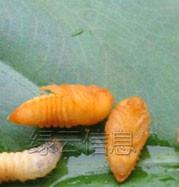grub: (12, 82, 118, 126)
